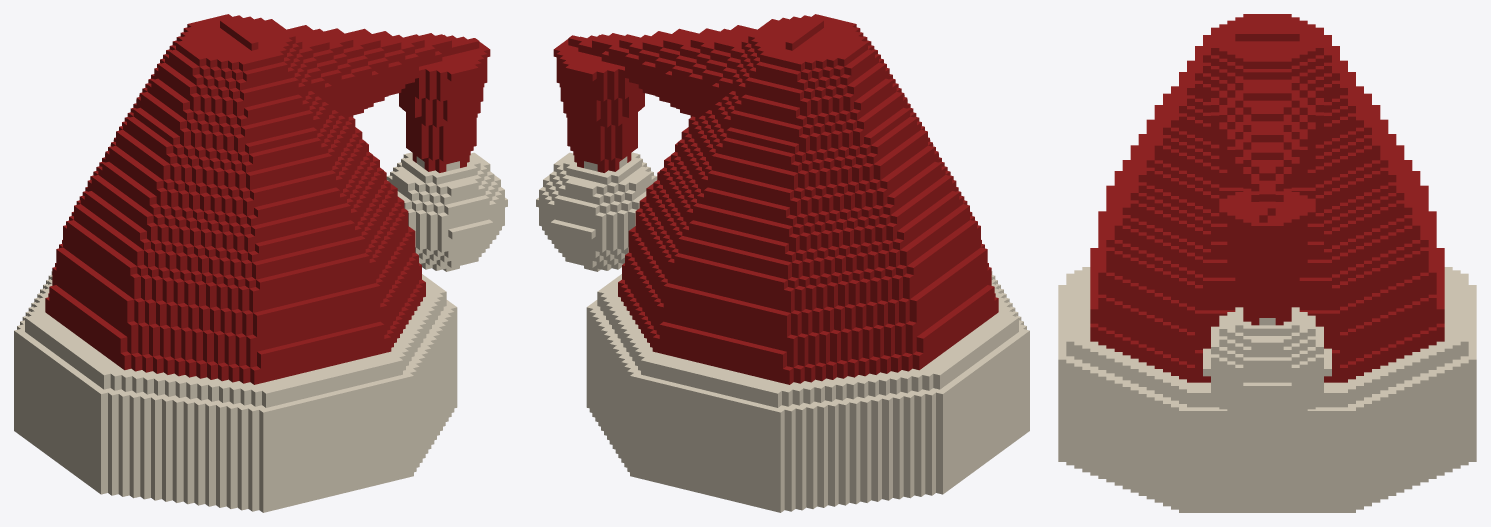
Rendered from santa_hat.glb.
3 renders of one model, left to right at view 1: azimuth 30°, elevation 25°; view 2: azimuth 150°, elevation 25°; view 3: azimuth 270°, elevation 25°, orthographic.
Parts seen in each view (by area): view 1: santa_hat:compound; view 2: santa_hat:compound; view 3: santa_hat:compound.
Part boxes in pixels (x1,y1,x2,y2): santa_hat:compound: (14, 14, 507, 512); santa_hat:compound: (536, 14, 1029, 512); santa_hat:compound: (1058, 14, 1476, 512).
Bounding box in the file's own units: 0.256 × 0.216 × 0.208.
